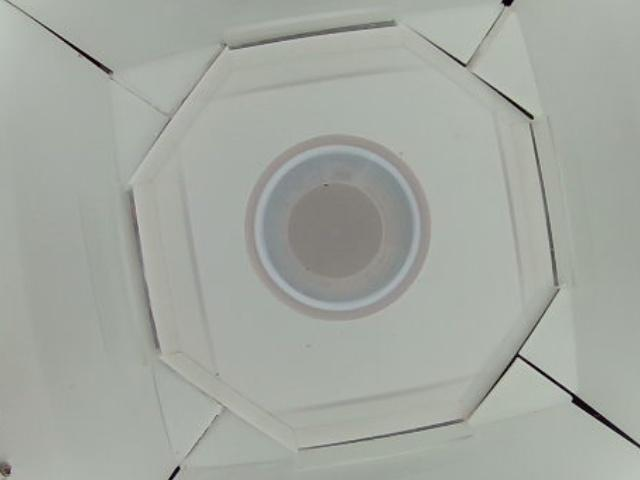Cup: (244, 133, 433, 321)
